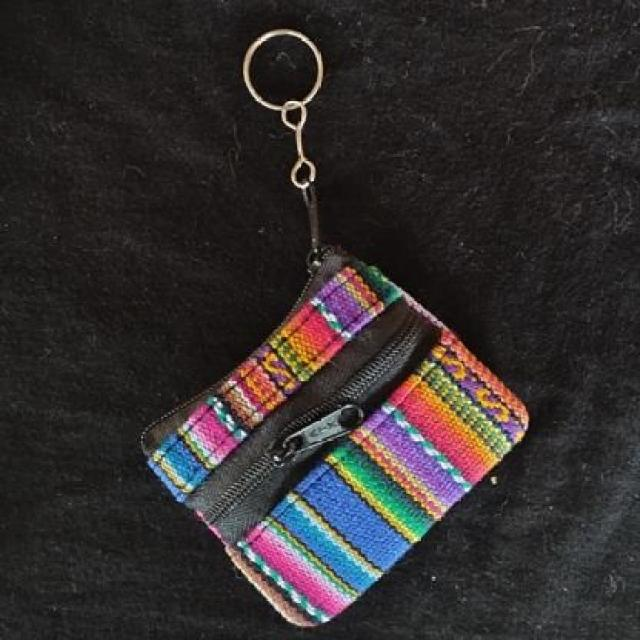Llavero: (138, 246, 531, 628)
